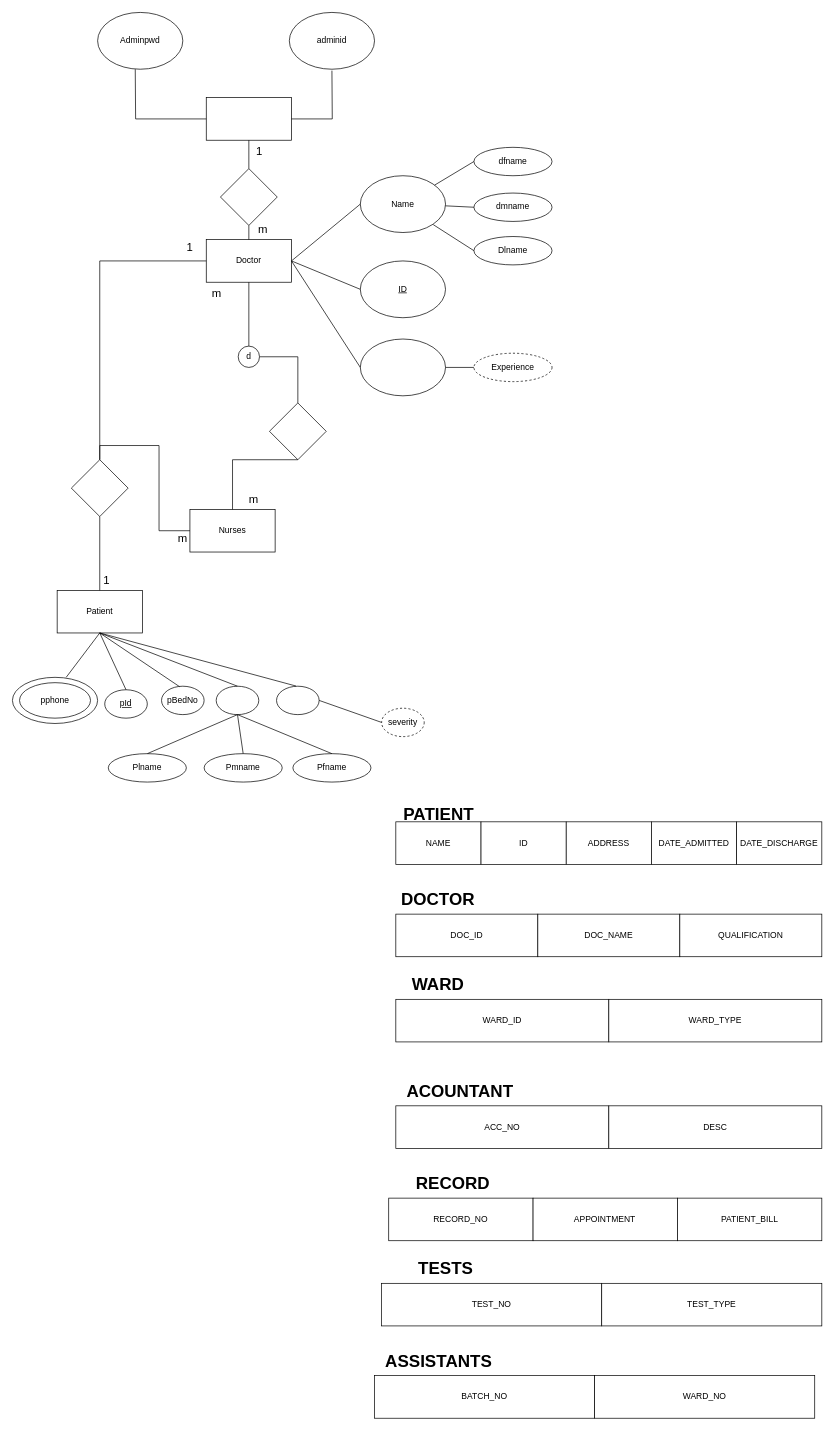
The diagram is 834 pixels wide and 1431 high, and some of its shapes have lost their labels. Here are the shapes that lost their labels. From the top down, the centre of each, then its label:
At (248,118): "Owner/Admin".
At (248,196): "Tracks".
At (403,367): "DOJ".
At (297,431): "Trains".
At (99,488): "Diagnoses".
At (237,700): "pName".
At (297,700): "pDisease".
